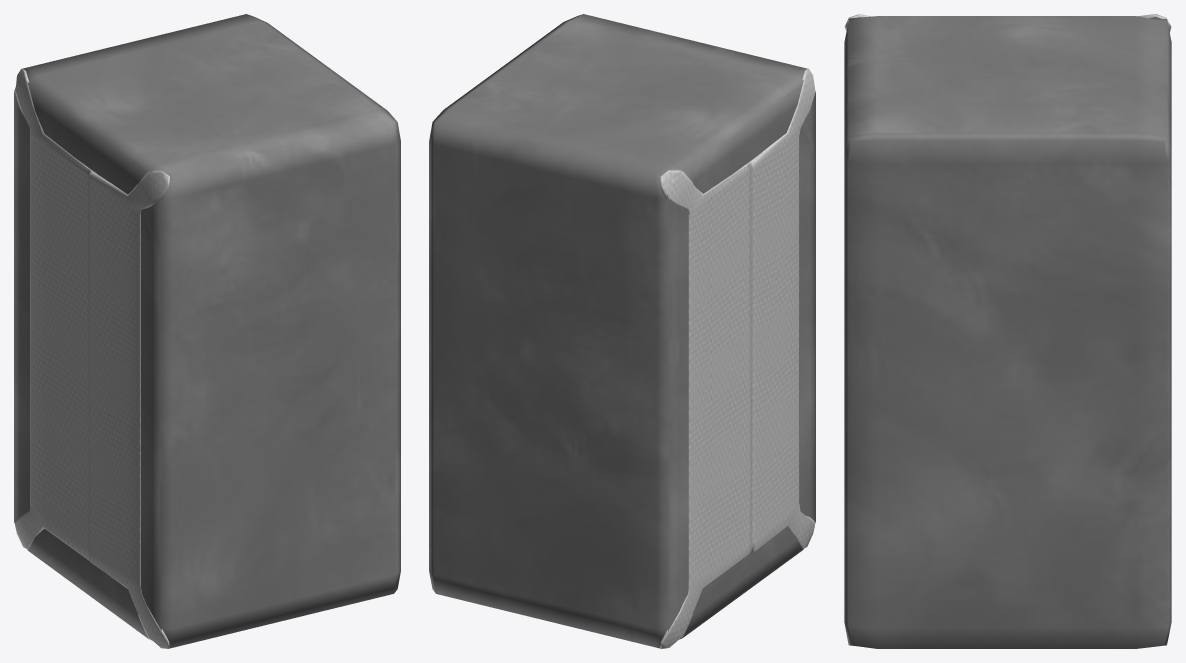
The model's file is napkins.glb.
3 views of the same model, side by side, from view 1: azimuth 30°, elevation 25°; view 2: azimuth 150°, elevation 25°; view 3: azimuth 270°, elevation 25° (orthographic). The views are drawn at different scales.
Visible parts, largest first — view 1: Napkin_Dispenser_low; view 2: Napkin_Dispenser_low; view 3: Napkin_Dispenser_low.
Part boxes in pixels (x1,y1,x2,y2): Napkin_Dispenser_low: (14,14,400,648); Napkin_Dispenser_low: (429,14,815,648); Napkin_Dispenser_low: (844,14,1171,648).
Bounding box in the file's own units: 11.99 × 22.07 × 12.69.
Materials: 1 (1 with a texture image).
